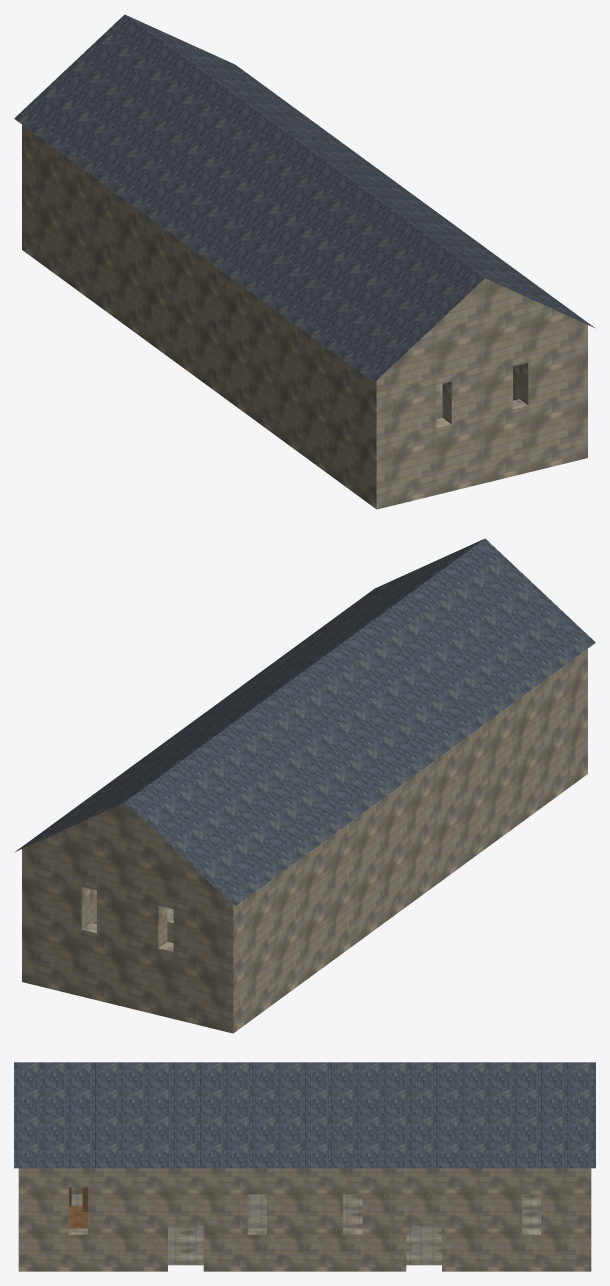
The model's file is fort-hall.fort-v1.lod0.glb.
The picture shows the model from 3 angles, top to bottom: view 1: azimuth 30°, elevation 25°; view 2: azimuth 150°, elevation 25°; view 3: azimuth 270°, elevation 25°; orthographic projection. The views are drawn at different scales.
Parts seen in each view (by area): view 1: fort-hall; view 2: fort-hall; view 3: fort-hall.
Part boxes in pixels (<box>): fort-hall: <box>14,14,595,509</box>; fort-hall: <box>14,538,595,1033</box>; fort-hall: <box>14,1062,595,1271</box>.
Bounding box in the file's own units: 17.3 × 15.5 × 48.8.
5 materials, 4 textured.
